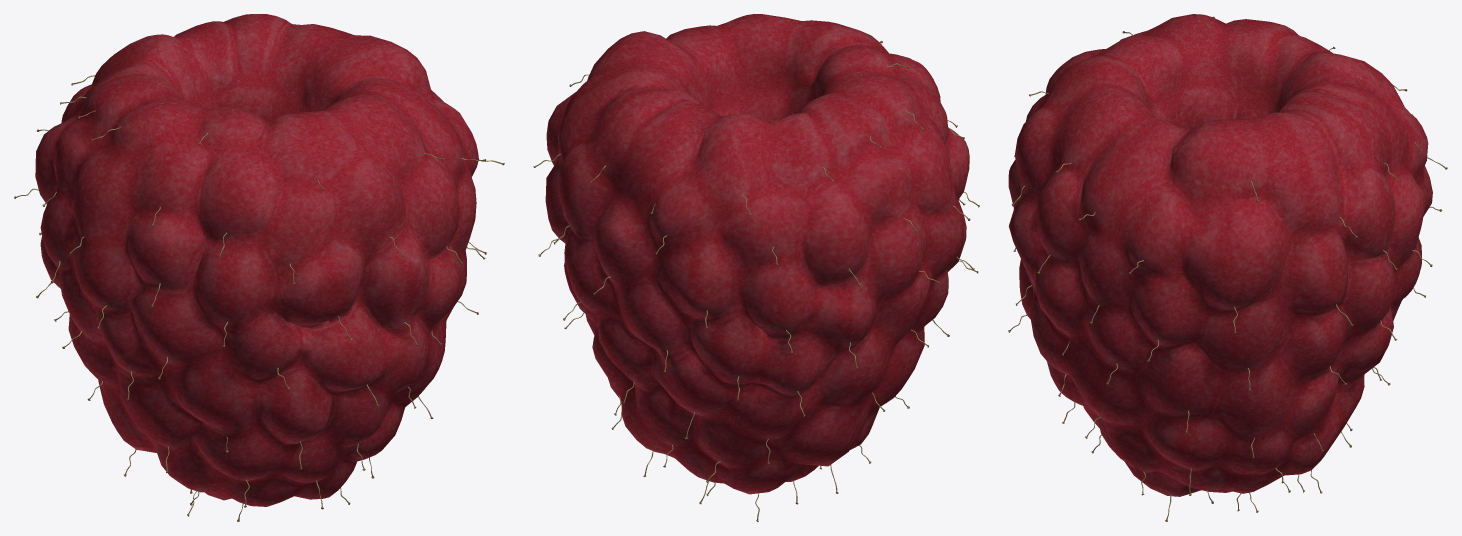
Rendered from raspberry.glb.
The picture shows the model from 3 angles, left to right: view 1: azimuth 30°, elevation 25°; view 2: azimuth 150°, elevation 25°; view 3: azimuth 270°, elevation 25°; orthographic projection. The views are drawn at different scales.
Parts seen in each view (by area): view 1: Mesh_raspberry_0; view 2: Mesh_raspberry_0; view 3: Mesh_raspberry_0.
Boxes of the visible parts, x1,y1,x2,y2 form: Mesh_raspberry_0: (14, 14, 504, 521); Mesh_raspberry_0: (533, 14, 979, 521); Mesh_raspberry_0: (1008, 14, 1447, 521).
Size of the model in its own units: 6.39 by 6.54 by 6.07.
1 material, 1 textured.
